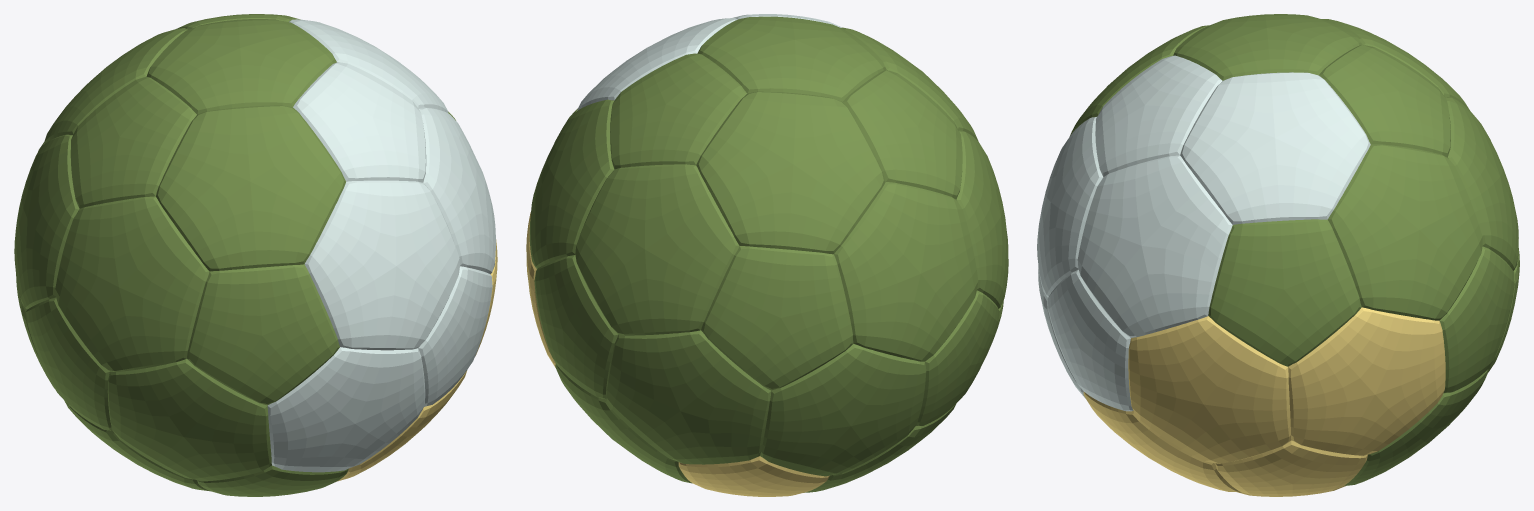
File: PlanetBase.fbx
3 renders of one model, left to right at view 1: azimuth 30°, elevation 25°; view 2: azimuth 150°, elevation 25°; view 3: azimuth 270°, elevation 25°, orthographic.
Parts seen in each view (by area): view 1: PLANET_BASE; view 2: PLANET_BASE; view 3: PLANET_BASE.
Boxes of the visible parts, x1,y1,x2,y2 form: PLANET_BASE: [14, 14, 497, 496]; PLANET_BASE: [526, 14, 1008, 496]; PLANET_BASE: [1037, 14, 1519, 496].
Size of the model in its own units: 3209 by 3193 by 3205.
